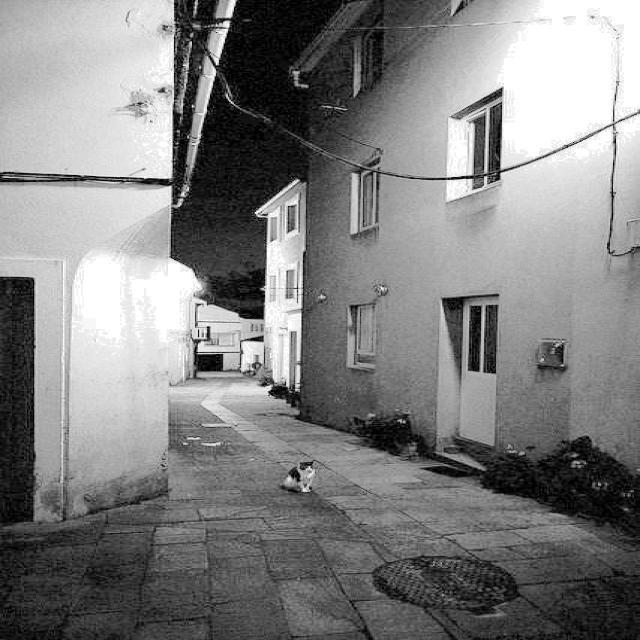Cat: (272, 455, 324, 511)
